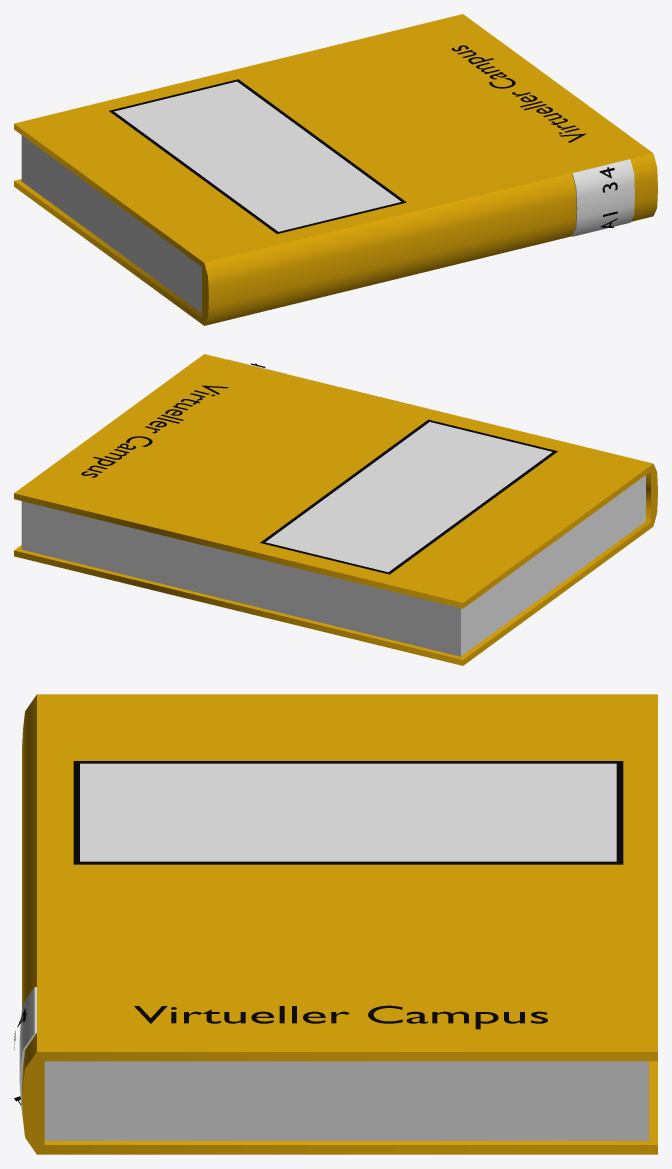
The model's file is Book_Titellos_2.fbx.
The picture shows the model from 3 angles, top to bottom: view 1: azimuth 30°, elevation 25°; view 2: azimuth 150°, elevation 25°; view 3: azimuth 270°, elevation 25°; orthographic projection. The views are drawn at different scales.
Visible parts, largest first — view 1: Cube; view 2: Cube; view 3: Cube.
Boxes of the visible parts, <box> form: Cube: <box>14,14,657,325</box>; Cube: <box>14,354,657,665</box>; Cube: <box>14,694,657,1154</box>.
Size of the model in its own units: 200 by 27.58 by 152.
